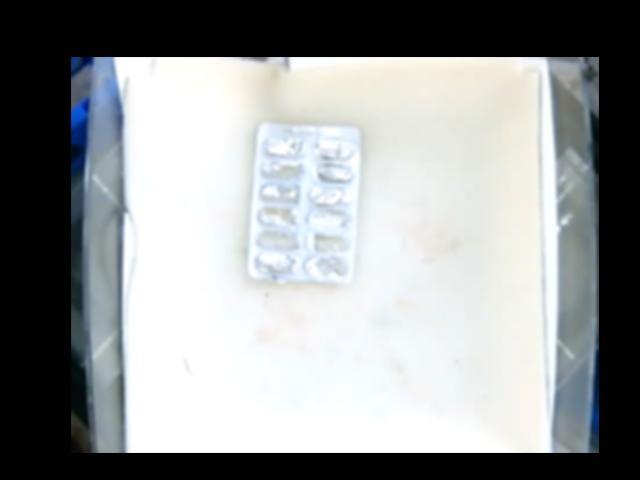Medicine: (250, 119, 359, 283)
